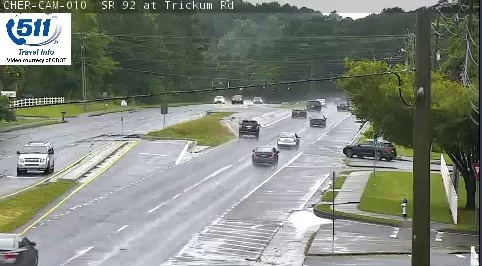car: (252, 147, 277, 165), (277, 132, 299, 148), (239, 120, 259, 136), (310, 115, 326, 127), (291, 107, 307, 119)
